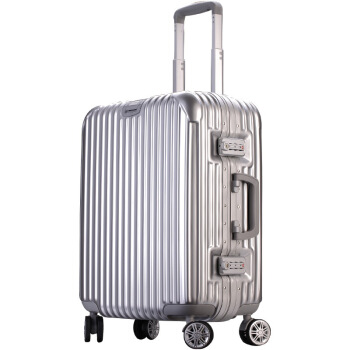luggage: (75, 0, 272, 350)
